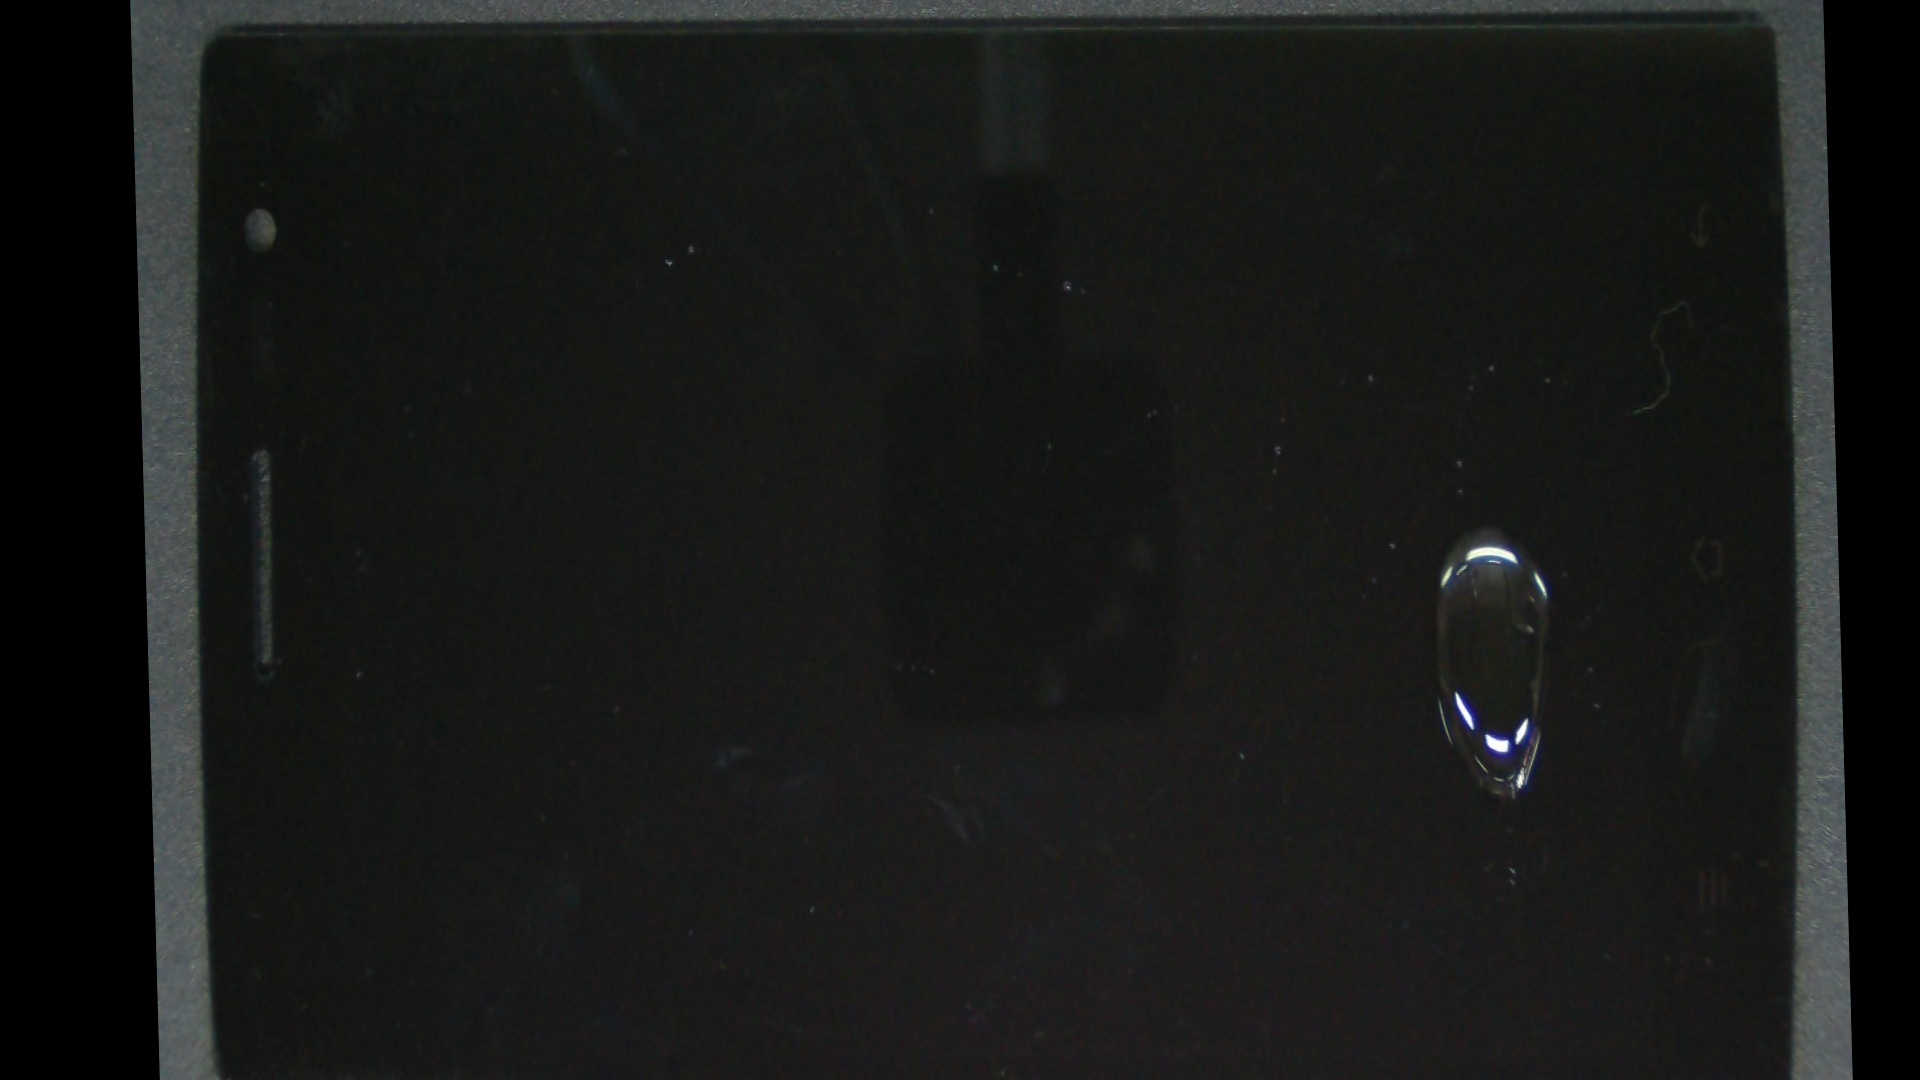oil: (807, 204, 1846, 860)
